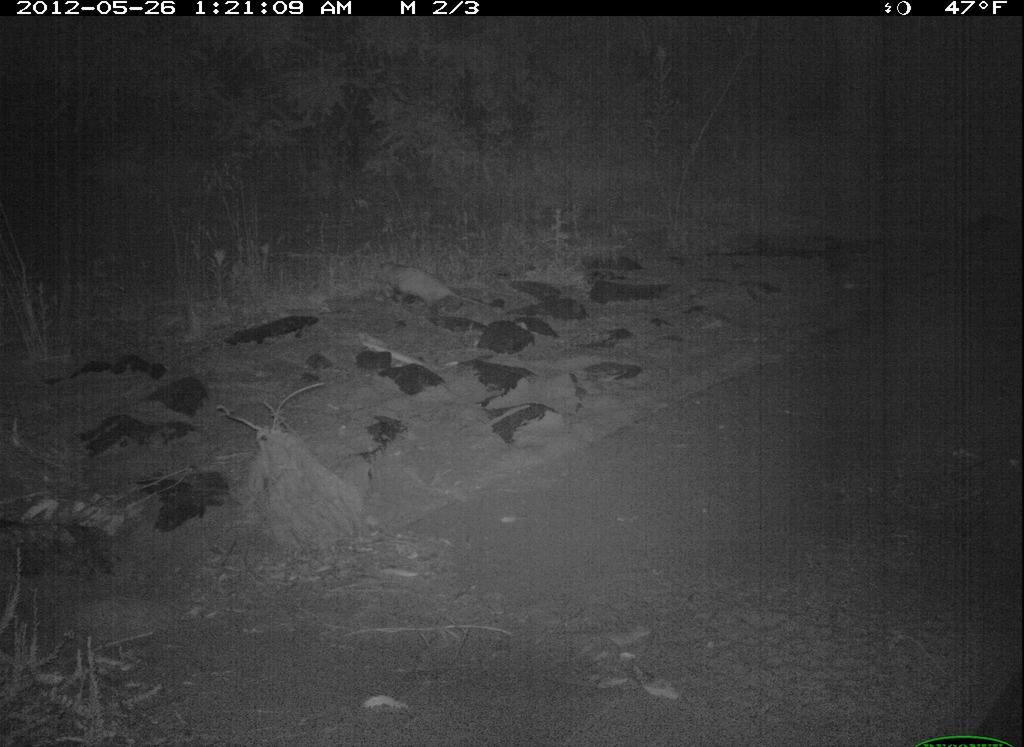opossum: (376, 250, 510, 323)
